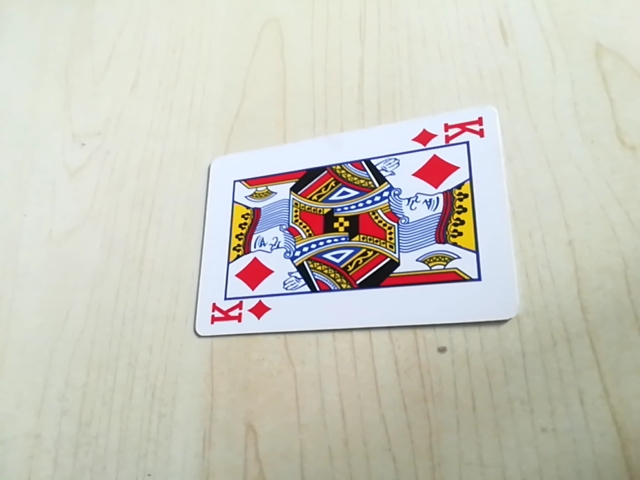fk k: (413, 115, 492, 153), (202, 294, 272, 332)
